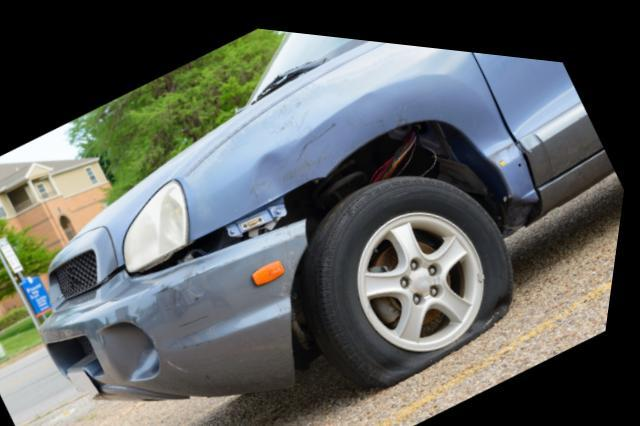dent: (260, 145, 293, 192)
dislocated part: (49, 165, 330, 399)
scratch: (162, 253, 240, 345), (274, 78, 338, 169)
tire flat: (312, 164, 521, 380)
